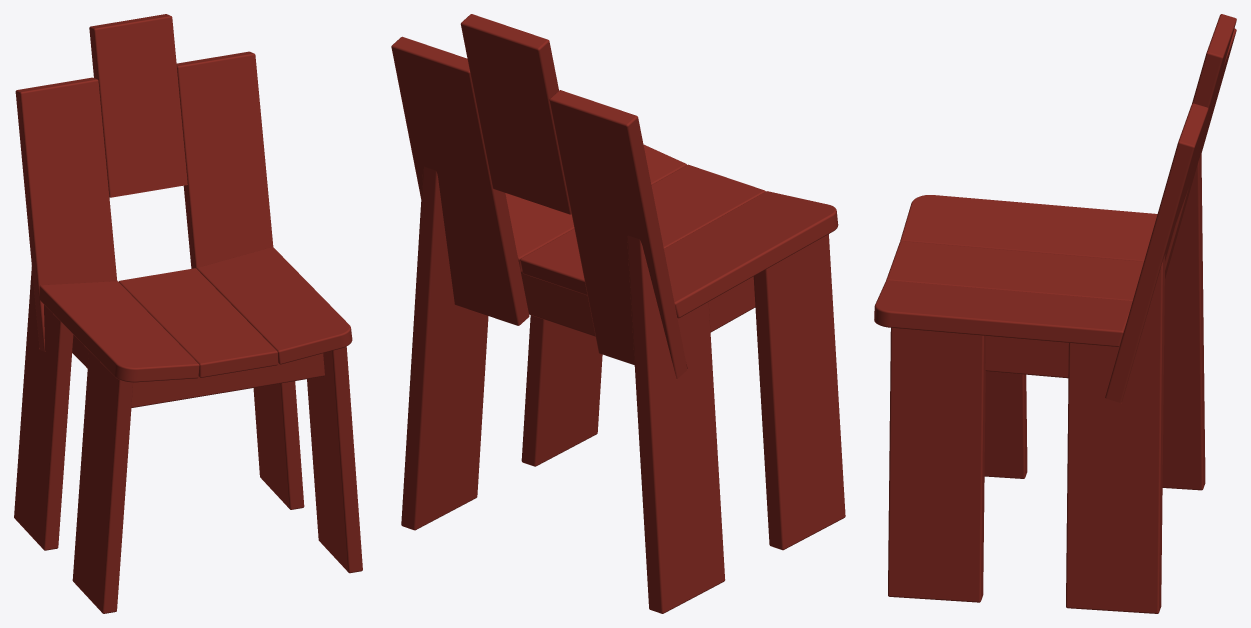
The model's file is redlaq.glb.
The picture shows the model from 3 angles, left to right: view 1: azimuth 30°, elevation 25°; view 2: azimuth 150°, elevation 25°; view 3: azimuth 270°, elevation 25°; orthographic projection. The views are drawn at different scales.
Visible parts, largest first — view 1: Brep.090, Brep.092, Brep.091, Brep.094, Brep.093, Brep.136, Brep.089, Brep.100, Brep.088, Brep.095, Brep.096; view 2: Brep.093, Brep.094, Brep.095, Brep.090, Brep.092, Brep.091, Brep.089, Brep.088, Brep.100, Brep.136, Brep.099, Brep.098; view 3: Brep.095, Brep.088, Brep.089, Brep.136, Brep.093, Brep.100, Brep.092, Brep.094, Brep.097, Brep.091, Brep.090.
Boxes of the visible parts, x1=… form: Brep.090: x1=15, y1=77, x2=117, y2=351; Brep.092: x1=176, y1=51, x2=273, y2=268; Brep.091: x1=89, y1=14, x2=187, y2=197; Brep.094: x1=72, y1=351, x2=133, y2=613; Brep.093: x1=14, y1=266, x2=73, y2=550; Brep.136: x1=197, y1=247, x2=352, y2=364; Brep.089: x1=39, y1=281, x2=199, y2=382; Brep.100: x1=118, y1=268, x2=277, y2=377; Brep.088: x1=307, y1=346, x2=362, y2=573; Brep.095: x1=253, y1=381, x2=304, y2=509; Brep.096: x1=131, y1=353, x2=324, y2=407; Brep.093: x1=627, y1=235, x2=725, y2=613; Brep.094: x1=753, y1=234, x2=845, y2=550; Brep.095: x1=401, y1=166, x2=488, y2=530; Brep.090: x1=549, y1=90, x2=687, y2=378; Brep.092: x1=391, y1=36, x2=529, y2=325; Brep.091: x1=460, y1=14, x2=571, y2=214; Brep.089: x1=664, y1=191, x2=838, y2=318; Brep.088: x1=521, y1=315, x2=602, y2=466; Brep.100: x1=520, y1=164, x2=765, y2=295; Brep.136: x1=505, y1=144, x2=686, y2=272; Brep.099: x1=521, y1=271, x2=595, y2=336; Brep.098: x1=708, y1=276, x2=755, y2=332; Brep.095: x1=1066, y1=254, x2=1165, y2=613; Brep.088: x1=888, y1=328, x2=985, y2=602; Brep.089: x1=900, y1=195, x2=1157, y2=261; Brep.136: x1=874, y1=280, x2=1132, y2=346; Brep.093: x1=1162, y1=153, x2=1205, y2=490; Brep.100: x1=886, y1=241, x2=1143, y2=300; Brep.092: x1=1105, y1=103, x2=1208, y2=402; Brep.094: x1=984, y1=371, x2=1027, y2=478; Brep.097: x1=985, y1=336, x2=1068, y2=378; Brep.091: x1=1176, y1=14, x2=1236, y2=221; Brep.090: x1=1165, y1=28, x2=1236, y2=278.
Size of the model in its own units: 0.5385 by 0.8791 by 0.5575.
